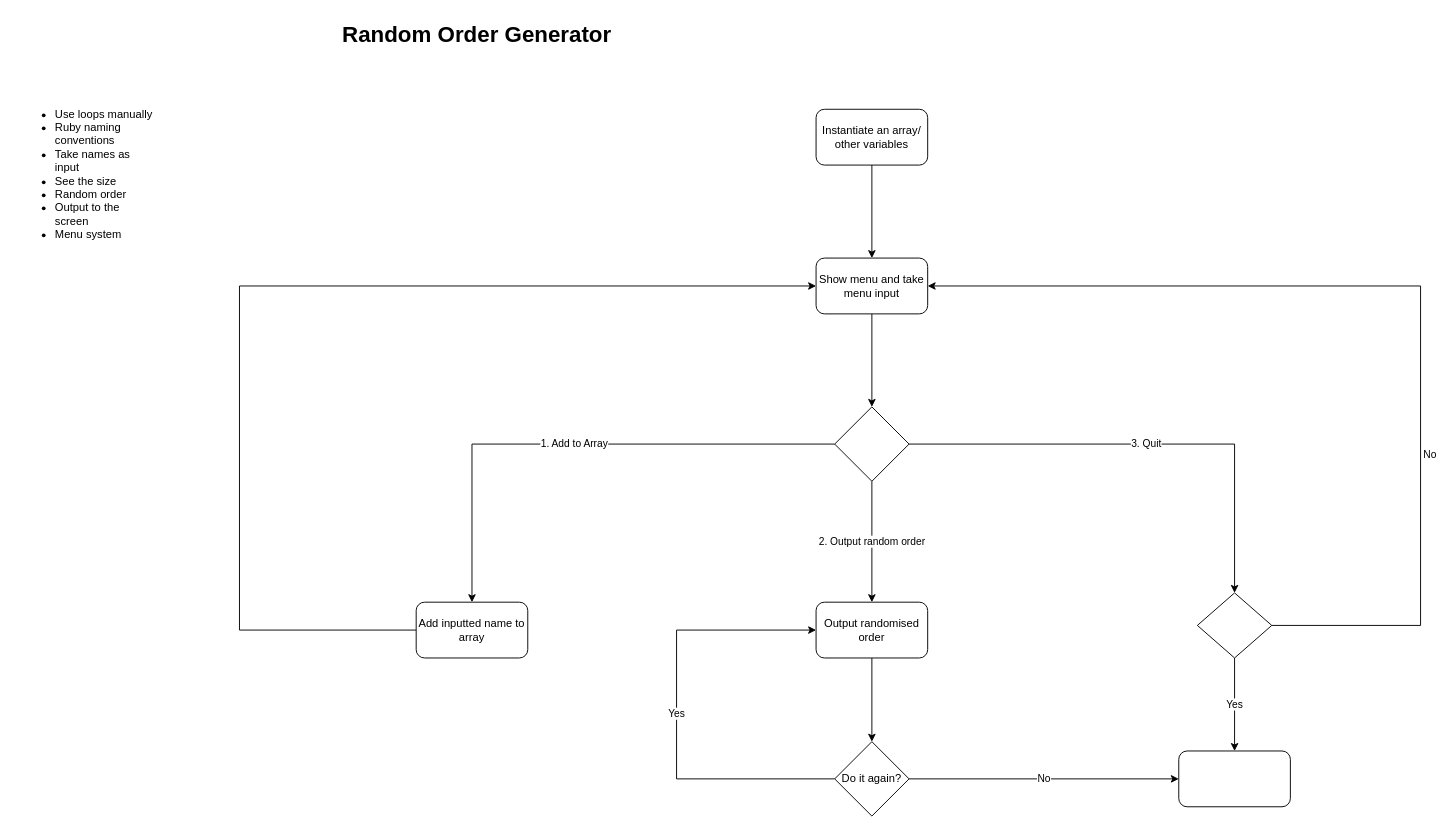
This 1452x832 diagram has some shape labels left out. The shapes that lost their labels are listed below. From the top down, each one's box as (x1, y1, x2, y2) in pixels, then its label:
(834, 406, 909, 481): Choose 1,2 ,3
(1196, 592, 1272, 658): Are you sure?
(1178, 750, 1290, 807): Exit Program
